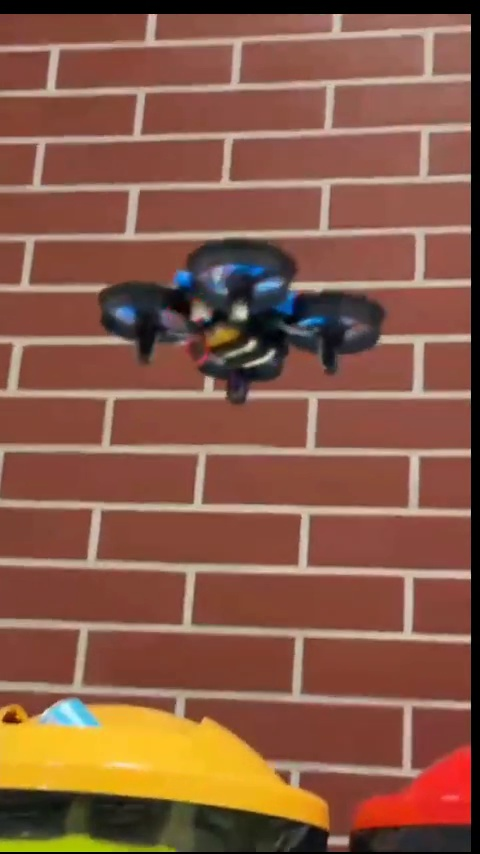drone: (97, 238, 387, 408)
